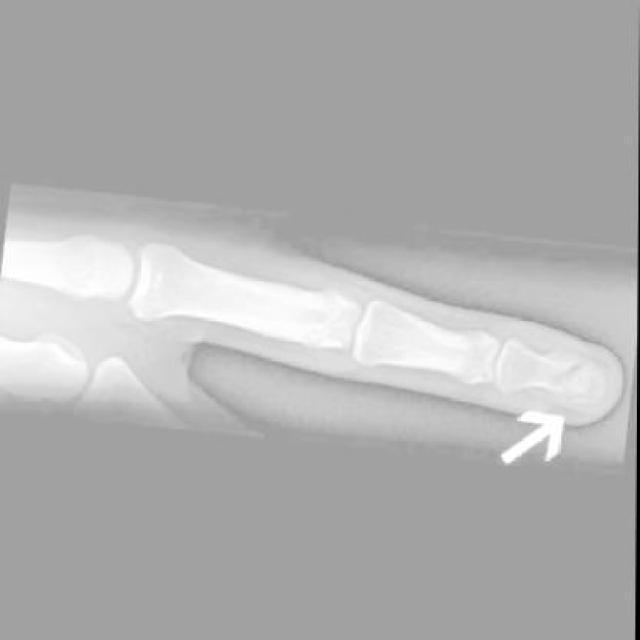Fracture: (537, 345, 608, 402)
